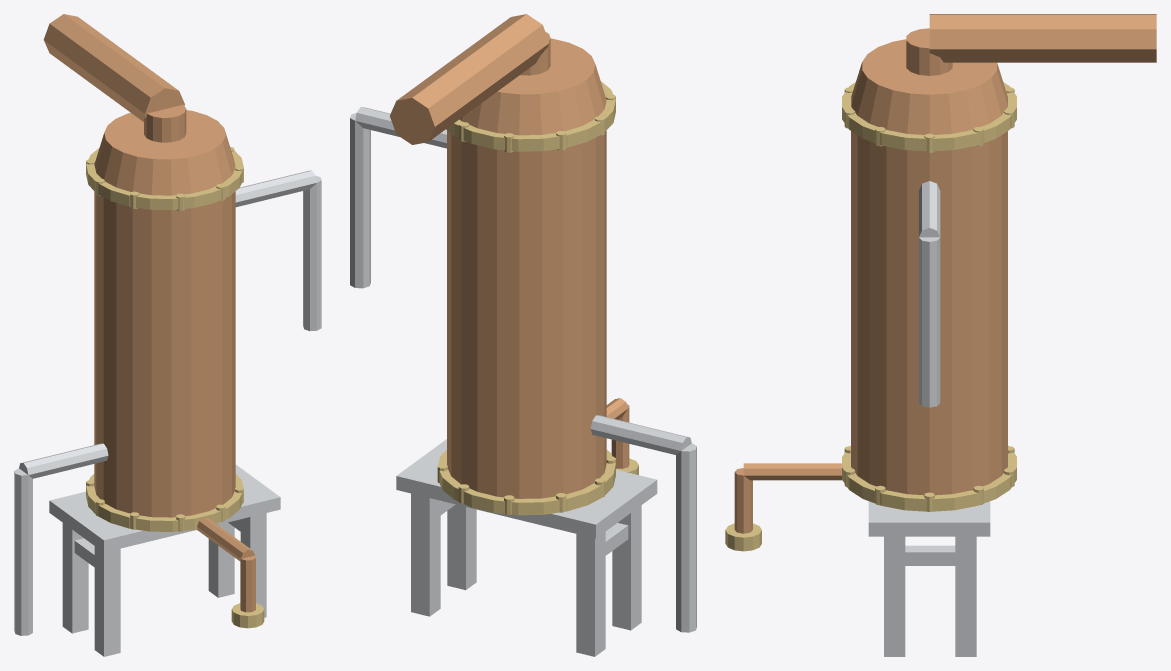
Rendered from distillery-and-bonded-warehouse-shell-and-tube-condens-93636c70__38663.glb.
3 views of the same model, side by side, from view 1: azimuth 30°, elevation 25°; view 2: azimuth 150°, elevation 25°; view 3: azimuth 270°, elevation 25° (orthographic). The views are drawn at different scales.
Visible parts, largest first — view 1: shell-and-tube-condenser-copper, shell-and-tube-condenser-steel, shell-and-tube-condenser-brass; view 2: shell-and-tube-condenser-copper, shell-and-tube-condenser-steel, shell-and-tube-condenser-brass; view 3: shell-and-tube-condenser-copper, shell-and-tube-condenser-steel, shell-and-tube-condenser-brass.
Part boxes in pixels (bbox=[...]): shell-and-tube-condenser-copper: bbox=[43, 14, 255, 612]; shell-and-tube-condenser-steel: bbox=[14, 170, 321, 656]; shell-and-tube-condenser-brass: bbox=[86, 147, 264, 628]; shell-and-tube-condenser-copper: bbox=[390, 14, 629, 498]; shell-and-tube-condenser-steel: bbox=[350, 107, 696, 656]; shell-and-tube-condenser-brass: bbox=[437, 81, 638, 515]; shell-and-tube-condenser-copper: bbox=[734, 14, 1156, 533]; shell-and-tube-condenser-steel: bbox=[868, 181, 990, 656]; shell-and-tube-condenser-brass: bbox=[725, 82, 1016, 551].
Size of the model in its own units: 2.59 by 4.33 by 2.83.
